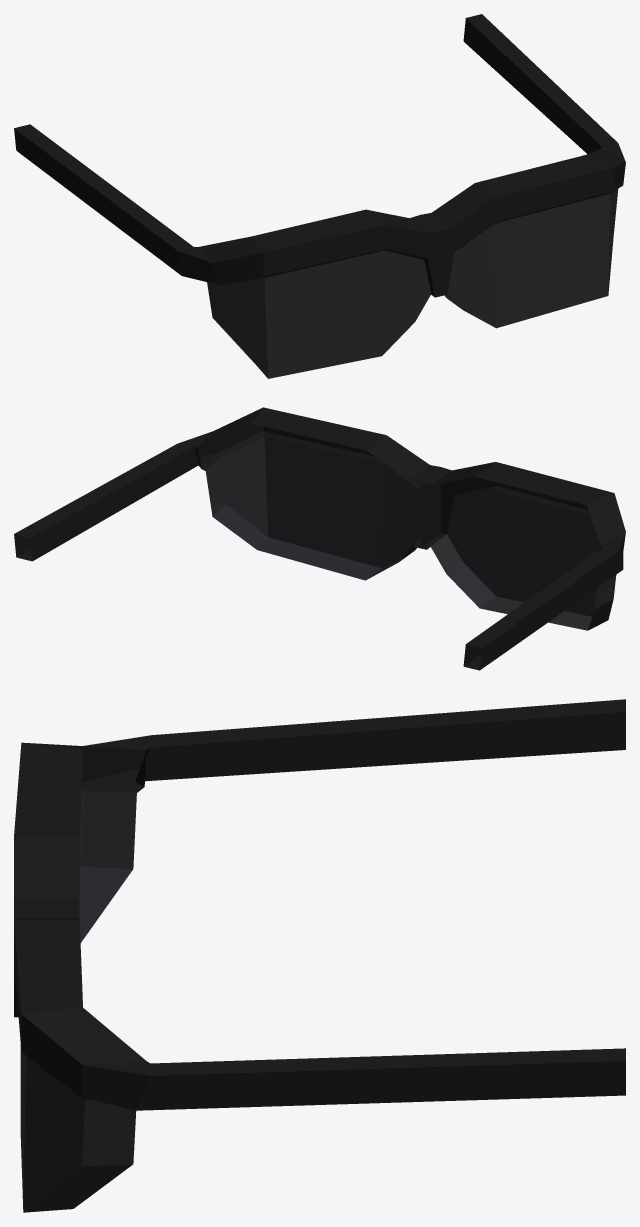
Rendered from SM_Chr_Attach_Glasses_03.fbx.
3 renders of one model, top to bottom at view 1: azimuth 30°, elevation 25°; view 2: azimuth 150°, elevation 25°; view 3: azimuth 270°, elevation 25°, orthographic. The views are drawn at different scales.
Parts seen in each view (by area): view 1: SM_Chr_Attach_Glasses_03; view 2: SM_Chr_Attach_Glasses_03; view 3: SM_Chr_Attach_Glasses_03.
Part boxes in pixels (x1=…): SM_Chr_Attach_Glasses_03: x1=14, y1=14, x2=625, y2=378; SM_Chr_Attach_Glasses_03: x1=14, y1=407, x2=625, y2=670; SM_Chr_Attach_Glasses_03: x1=14, y1=699, x2=625, y2=1212.
Bounding box in the file's own units: 23.23 × 6.28 × 16.61.
